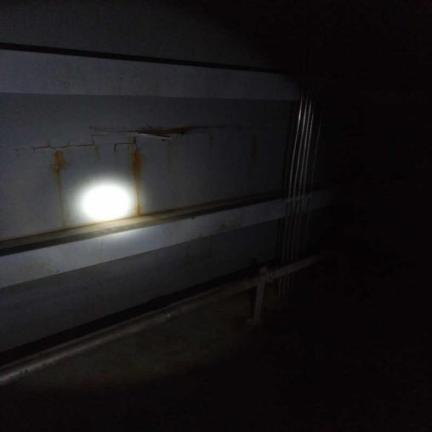besi_tidak_karat: (0, 200, 286, 289), (0, 50, 299, 100)
